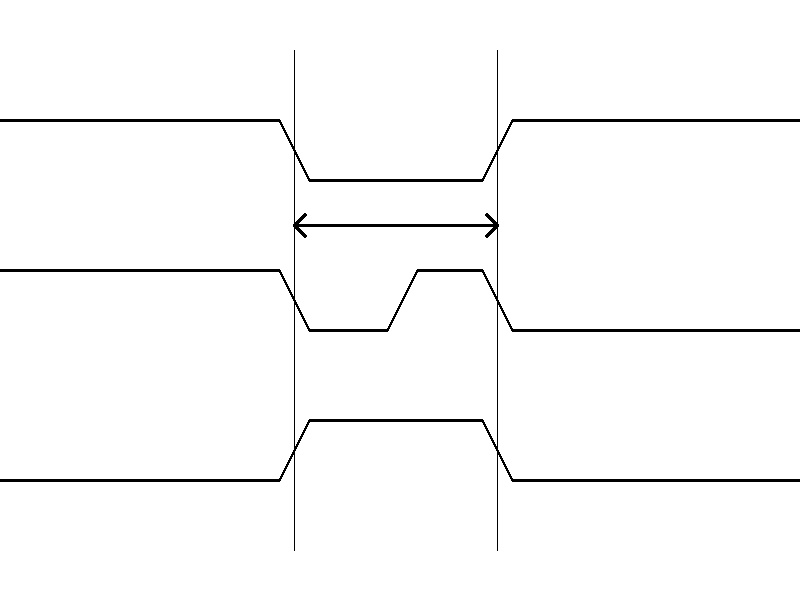double_arrow: (294, 210, 497, 240)
